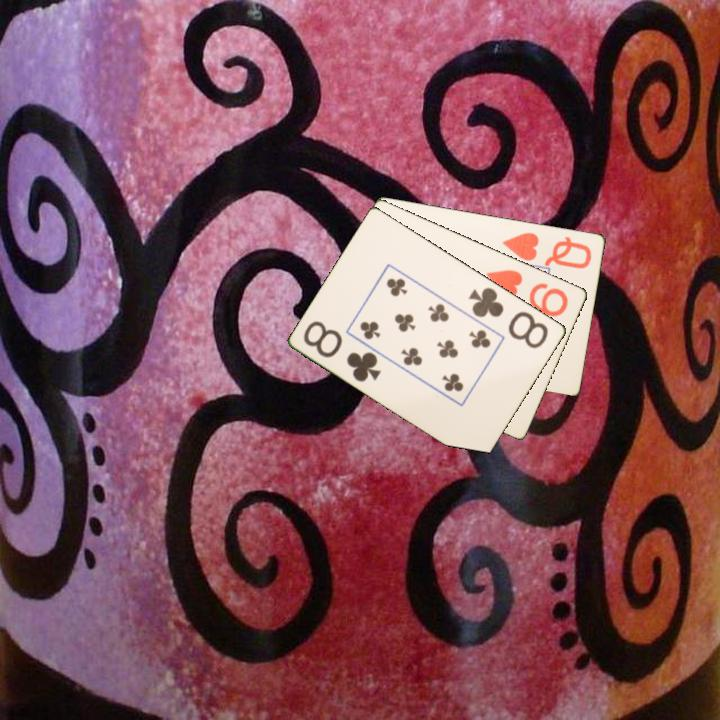8c: (465, 283, 552, 351), (300, 317, 384, 385)
9h: (483, 266, 571, 320)
Qh: (499, 228, 595, 272)
